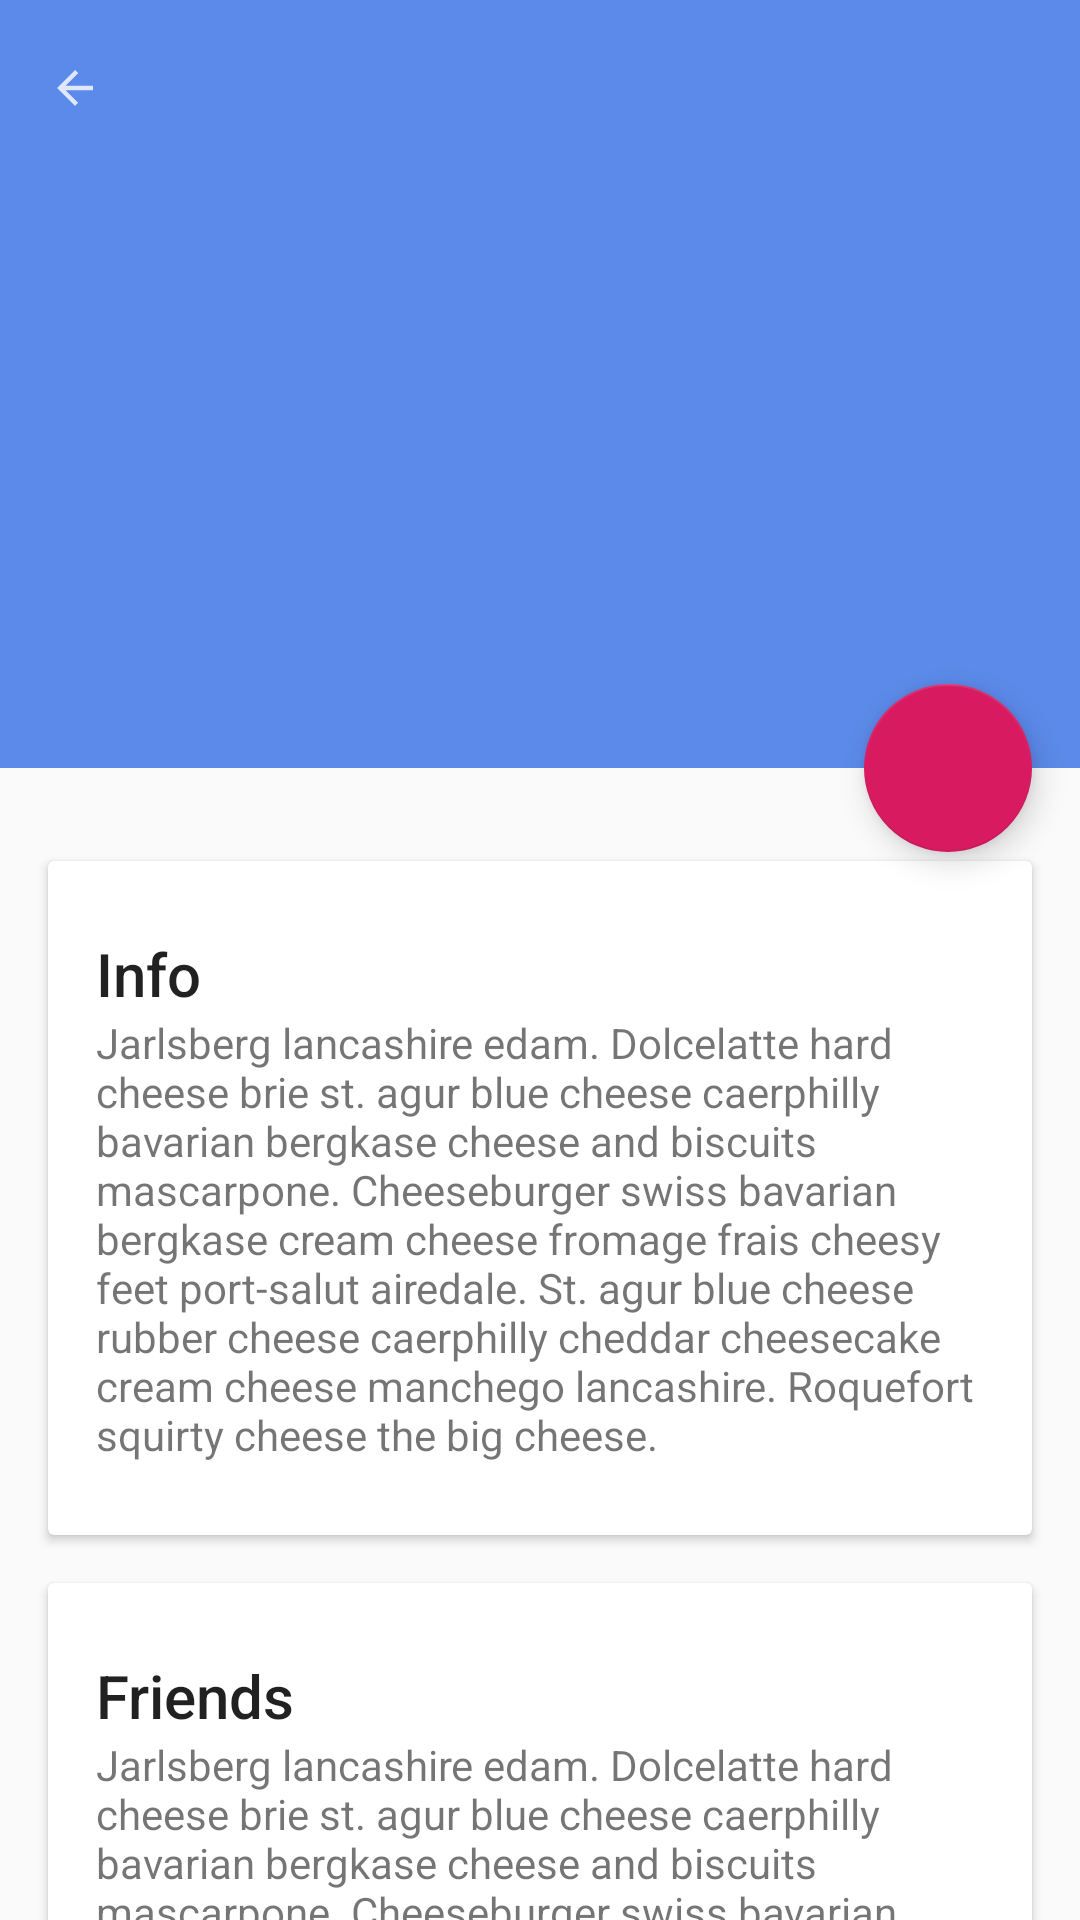

Icons on this 1080px x 1920px Android screen, each with the point to tap as (x,y):
back: (75,88)
